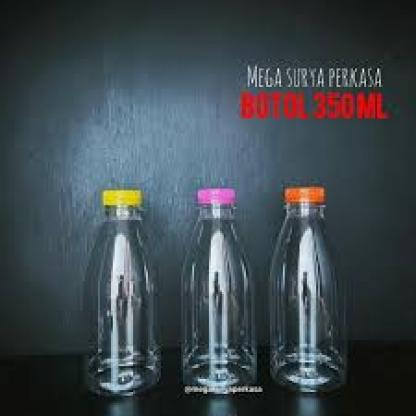Glass Bottle: (56, 177, 168, 399), (179, 189, 273, 400), (270, 181, 356, 392)
